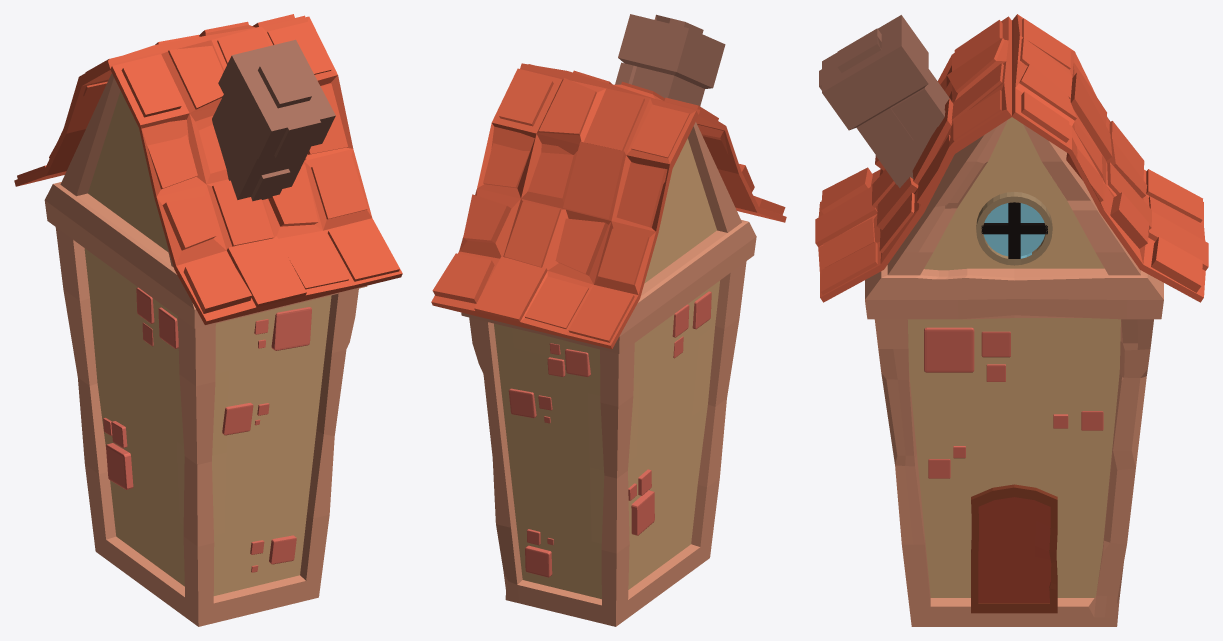
File: new house 1.fbx
3 renders of one model, left to right at view 1: azimuth 30°, elevation 25°; view 2: azimuth 150°, elevation 25°; view 3: azimuth 270°, elevation 25°, orthographic. The views are drawn at different scales.
Visible parts, largest first — view 1: Cube, Cube.001, Cube.004, Cube.002, Cube.011, Cube.033, Cube.014, Cube.017, Cube.030; view 2: Cube, Cube.002, Cube.004, Cube.001, Cube.033, Cube.027, Cube.024, Cube.008, Cube.030; view 3: Cube, Cube.002, Cube.001, Cube.004, Cube.003, Cylinder, Cube.005, Cube.006.
Boxes of the visible parts, x1,y1,x2,y2 form: Cube: (44,74,367,626); Cube.001: (110,16,402,324); Cube.004: (212,39,335,201); Cube.002: (14,14,305,186); Cube.011: (271,307,311,350); Cube.033: (106,443,133,489); Cube.014: (222,402,253,435); Cube.017: (269,535,296,564); Cube.030: (158,307,178,348); Cube: (461,122,756,626); Cube.002: (431,68,698,348); Cube.004: (615,14,725,106); Cube.001: (520,63,786,222); Cube.033: (631,490,654,535); Cube.027: (525,545,552,577); Cube.024: (508,388,536,418); Cube.008: (565,349,590,376); Cube.030: (692,291,711,329); Cube: (865,117,1163,626); Cube.002: (1011,14,1208,302); Cube.001: (815,16,1011,302); Cube.004: (819,15,950,187); Cube.003: (971,484,1057,613); Cylinder: (976,192,1052,265); Cube.005: (924,327,974,372); Cube.006: (981,331,1010,357).
Size of the model in its own units: 463 by 1282 by 805.
